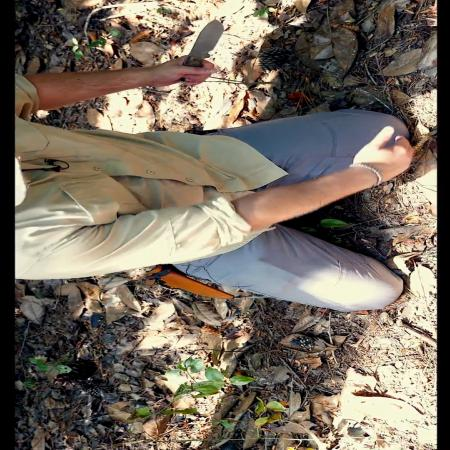long weapon: (164, 18, 232, 88)
